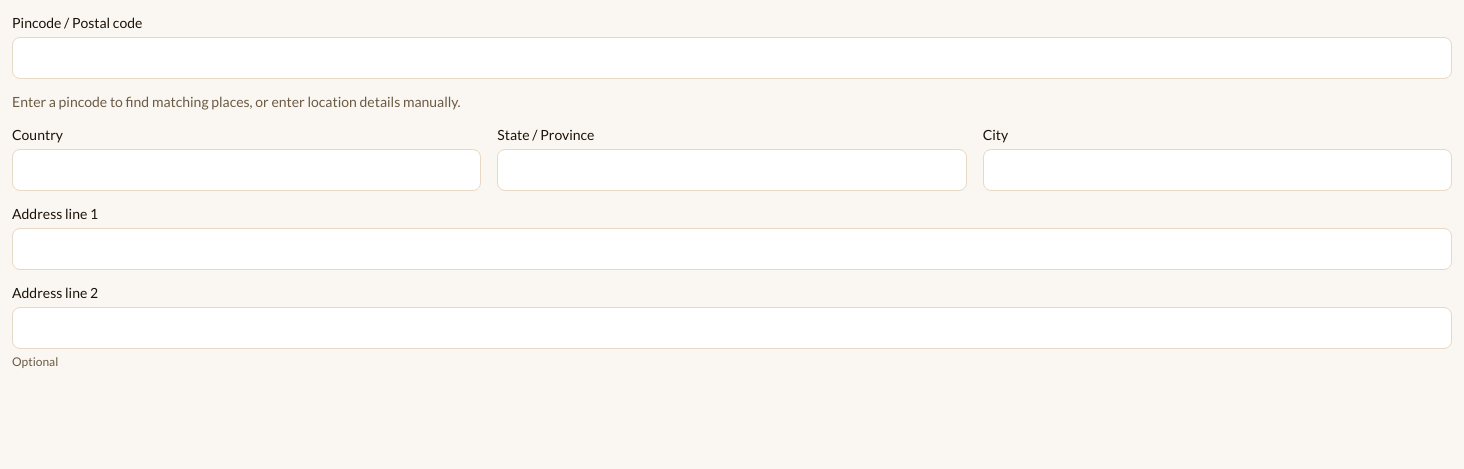
Test: MemberAddressFields › requires an explicit place choice when a pincode is ambiguous
In the field labelled "Pincode / Postal code": (732, 58) [13,38,1451,78], type "78701"
Wait 550 ms
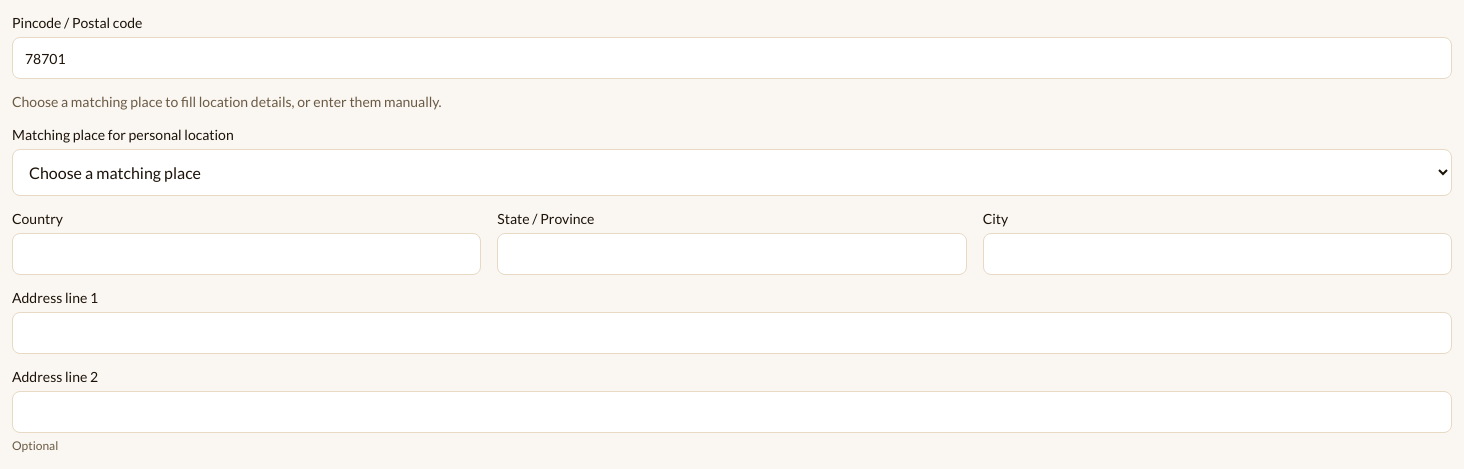
expect the field labelled "City" is empty: met, box [984,234,1451,274]
Select "Houston, Texas, United States" in the dropdown labelled "Matching place for personal location": (732, 172) [12,149,1452,196]
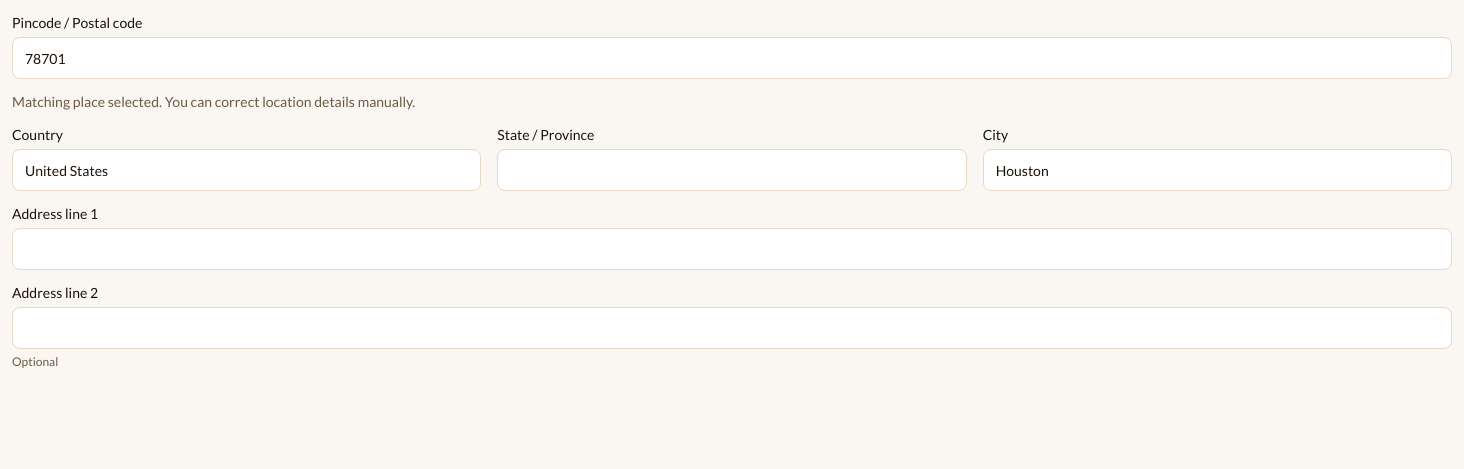
expect the field labelled "City" holds "Houston": met, box [984,150,1451,190]
expect the message shows "selected": met, box [12,93,415,110]
